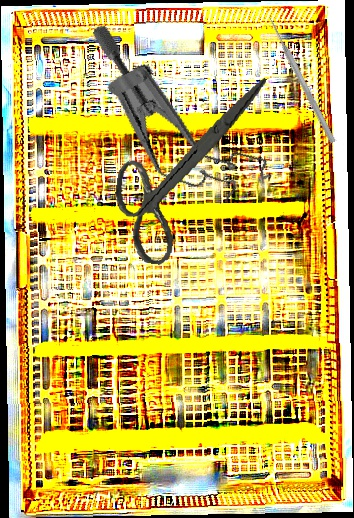Iris Scissors: (106, 60, 267, 276)
Pusher: (265, 14, 338, 145)
Speculum: (53, 21, 303, 216)
